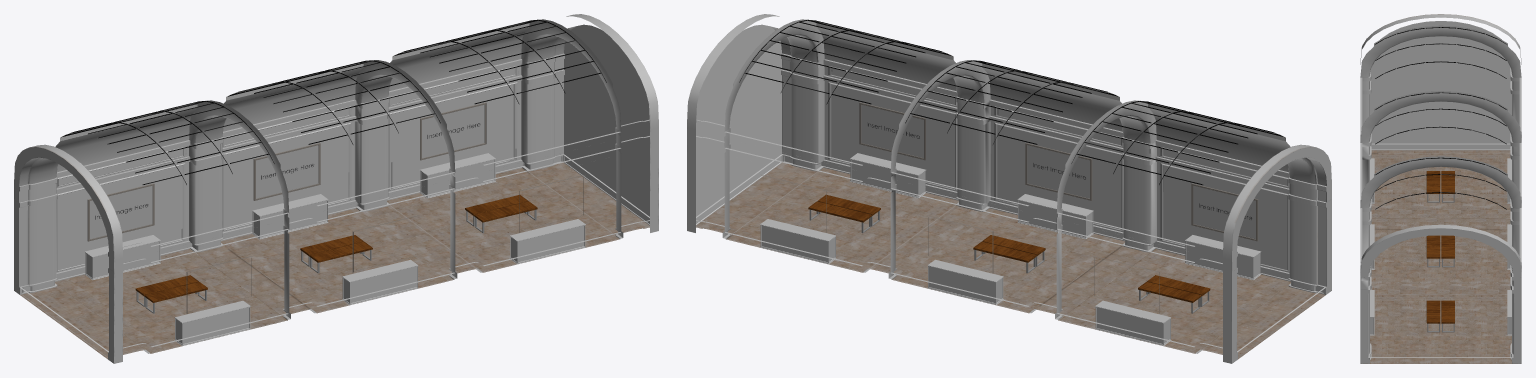
3 renders of one model, left to right at view 1: azimuth 30°, elevation 25°; view 2: azimuth 150°, elevation 25°; view 3: azimuth 270°, elevation 25°, orthographic. The views are drawn at different scales.
Visible parts, largest first — view 1: Gallery, Podiums, Portraits, Benches; view 2: Gallery, Podiums, Portraits, Benches; view 3: Gallery, Benches, Podiums.
Part boxes in pixels (bbox=[...]): Gallery: bbox=[14, 14, 658, 363]; Podiums: bbox=[85, 153, 585, 345]; Portraits: bbox=[87, 102, 584, 313]; Benches: bbox=[135, 195, 537, 313]; Gallery: bbox=[687, 14, 1331, 363]; Podiums: bbox=[760, 153, 1261, 345]; Portraits: bbox=[761, 102, 1258, 313]; Benches: bbox=[808, 194, 1210, 313]; Gallery: bbox=[1360, 14, 1521, 363]; Benches: bbox=[1426, 171, 1454, 332]; Podiums: bbox=[1370, 158, 1511, 335].
Bounding box in the file's own units: 18.8 × 5.71 × 5.98.
